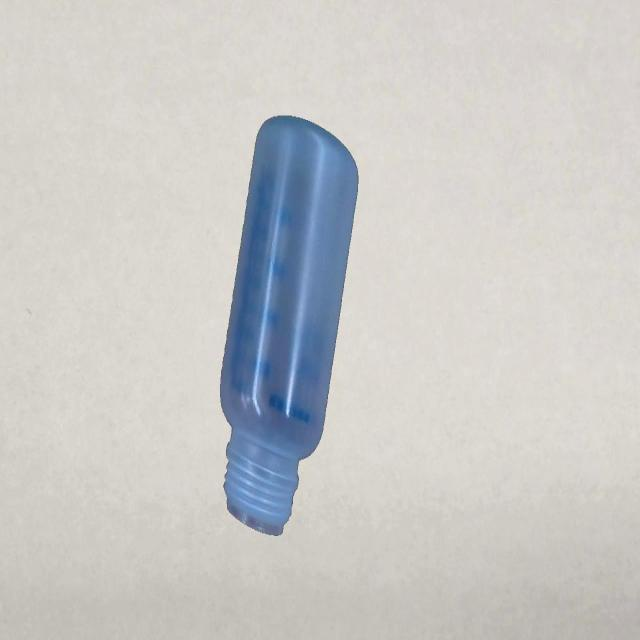bottle: (216, 111, 360, 539)
